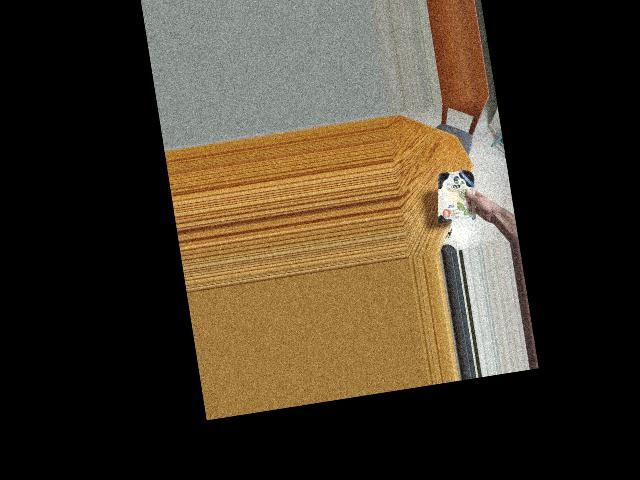cheese: (430, 160, 483, 230)
